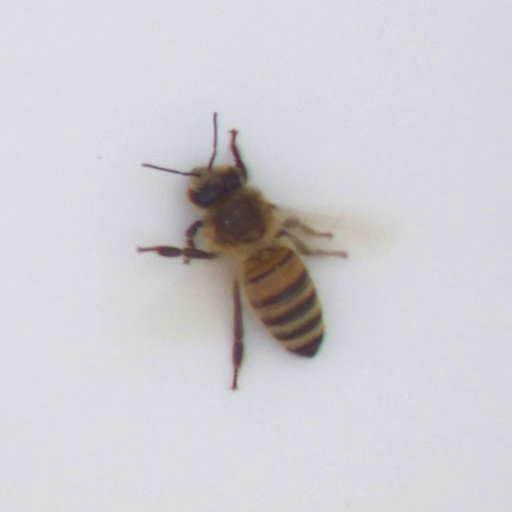Bee: (191, 157, 330, 359)
Thorax: (211, 191, 267, 248)
